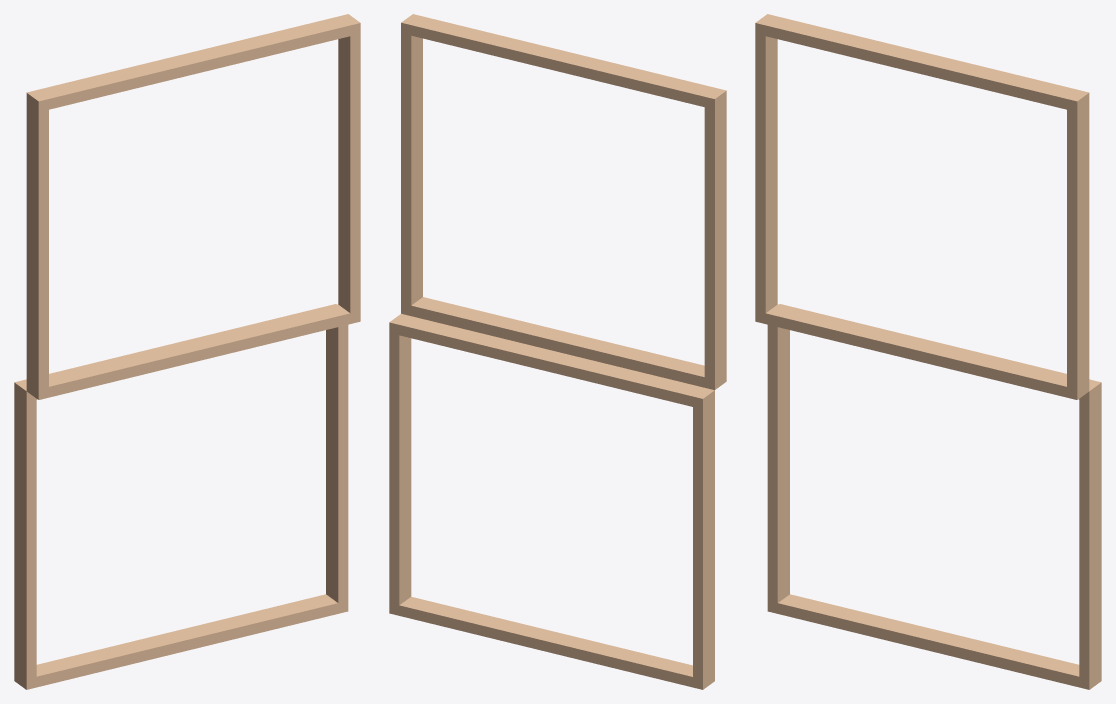
File: window.glb
3 renders of one model, left to right at view 1: azimuth 30°, elevation 25°; view 2: azimuth 150°, elevation 25°; view 3: azimuth 330°, elevation 25°, orthographic. The views are drawn at different scales.
Visible parts, largest first — view 1: windowTop, windowBottom; view 2: windowBottom, windowTop; view 3: windowTop, windowBottom.
Boxes of the visible parts, x1,y1,x2,y2 form: windowTop: [26, 14, 360, 399]; windowBottom: [14, 304, 348, 689]; windowBottom: [389, 313, 714, 689]; windowTop: [401, 14, 726, 390]; windowTop: [755, 14, 1089, 399]; windowBottom: [767, 304, 1101, 689].
Bounding box in the file's own units: 0.3746 × 0.6641 × 0.0491.
